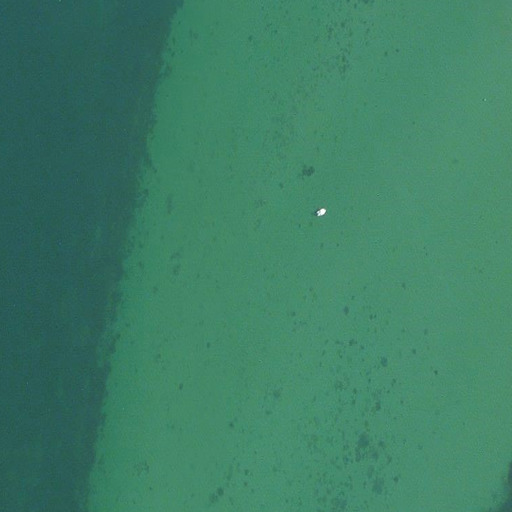ship: (316, 207, 326, 220)
